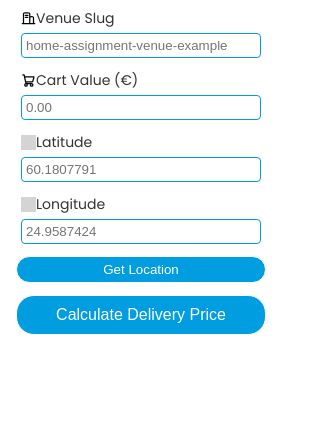
Test: PriceCalculatorForm Component › displays error if Venue Slug is empty on submit
The width and height of the screenshot is (320, 440).
Click the button "Calculate Delivery Price": (141, 315) [16,295,266,335]
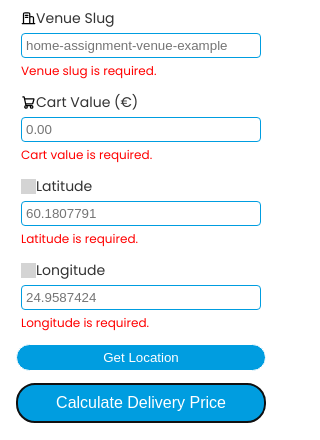
Now the text "Venue slug is required." is shown, box [21,62,156,80]
